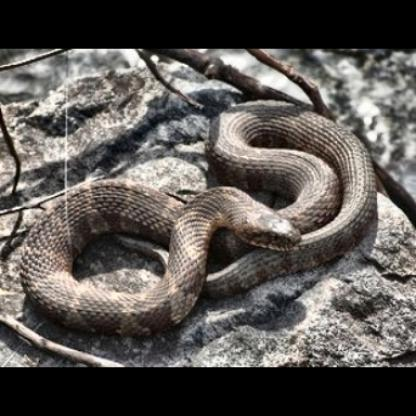Snake: (9, 59, 416, 349)
